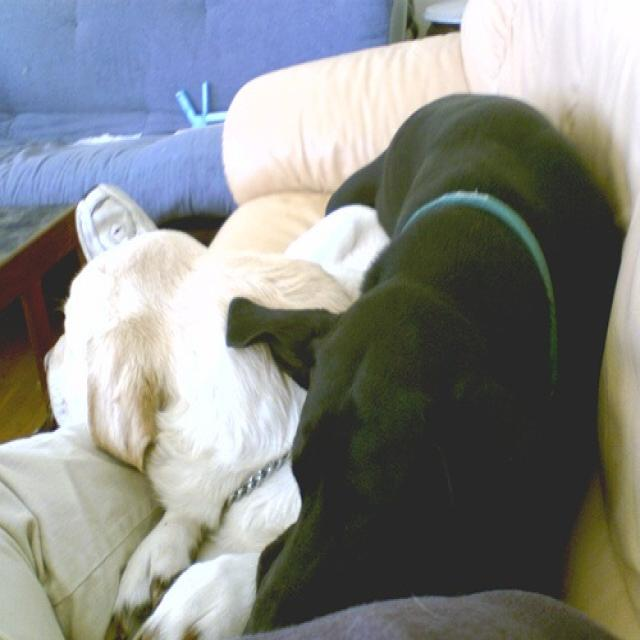dog: (228, 89, 605, 638), (45, 234, 353, 626)
sofa: (2, 4, 638, 638), (0, 0, 412, 224)
